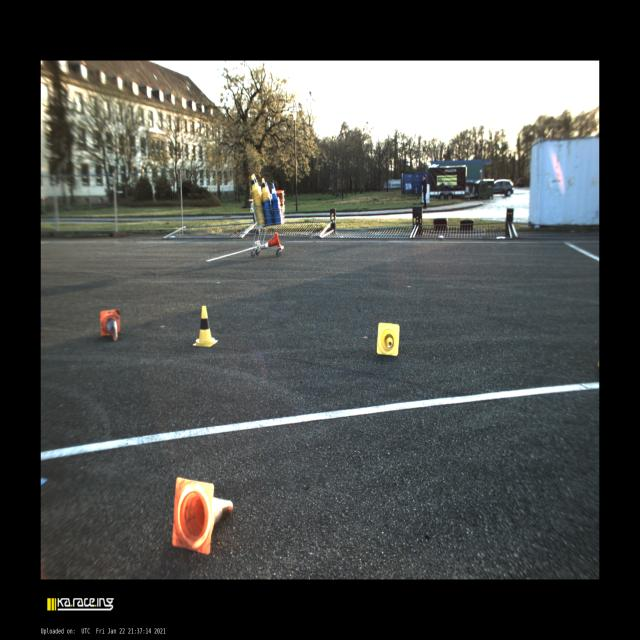orange_cone: (172, 478, 233, 554), (100, 310, 120, 340)
yellow_cone: (193, 306, 218, 346), (377, 323, 400, 356)
